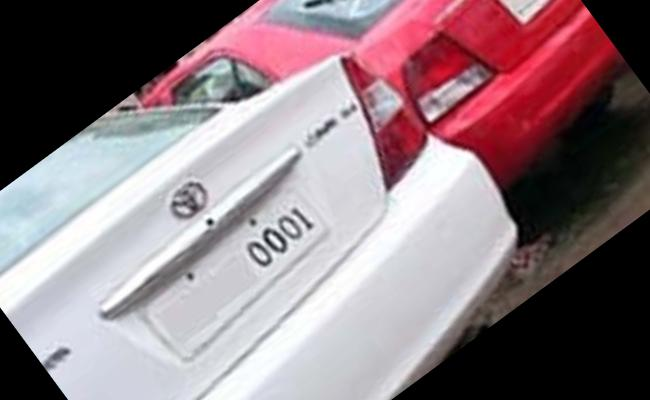plate: (139, 182, 343, 356)
